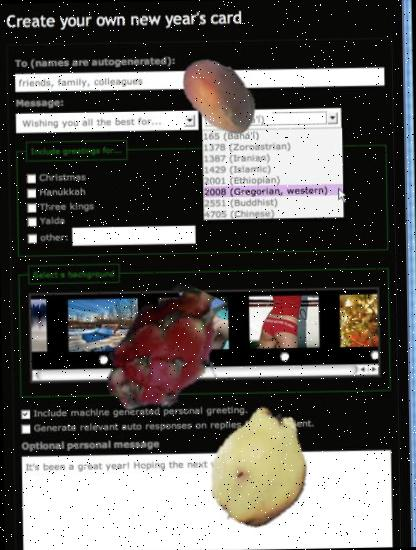Hazelnut: (174, 51, 266, 143)
Pitahaya: (100, 281, 242, 424)
Quince: (200, 408, 323, 530)
